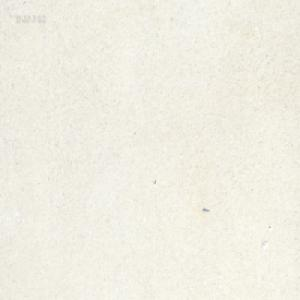Nail: (203, 205, 210, 210)
